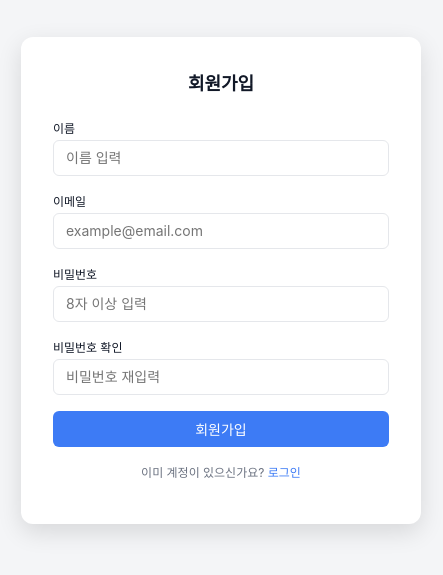
Test case: 잘못된 이메일 형식 제출 시 유효성 오류
Type "Test" into the field labelled "이름".
click(221, 158); type("Test")  # box [53,140,389,176]
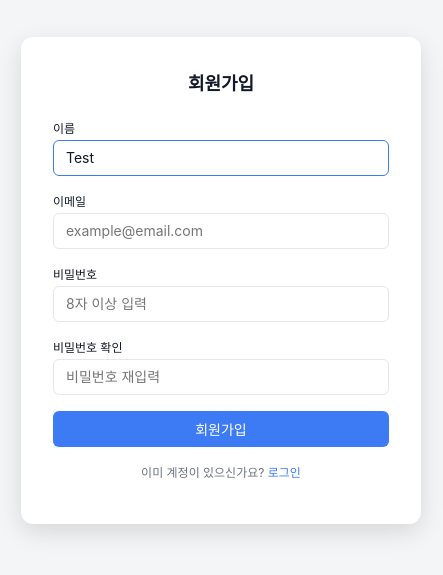
Type "invalid" into the field labelled "이메일".
click(221, 230); type("invalid")  # box [53,212,389,248]
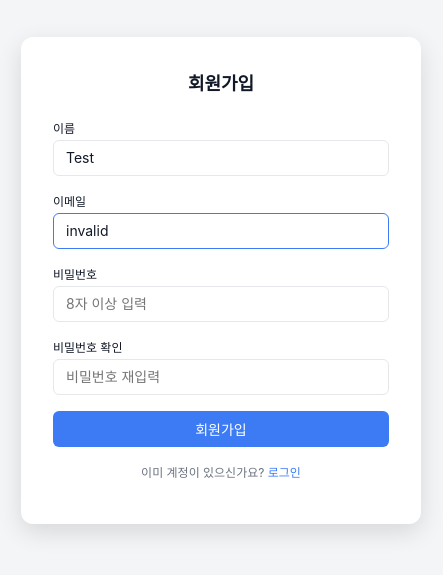
Click the button "회원가입".
click(221, 428)  # box [53,410,389,446]
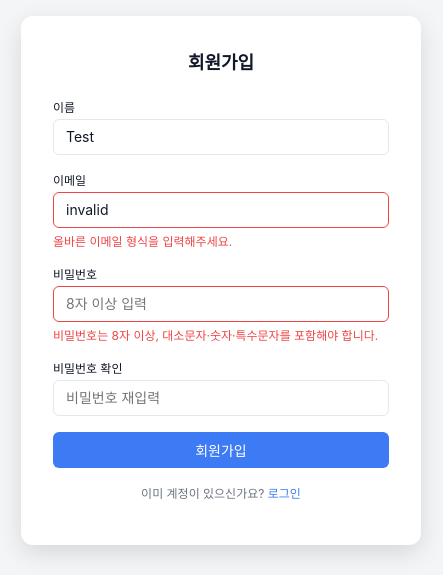
Check: the text "올바른 이메일 형식을 입력해주세요." is shown, box [53,234,232,248]
